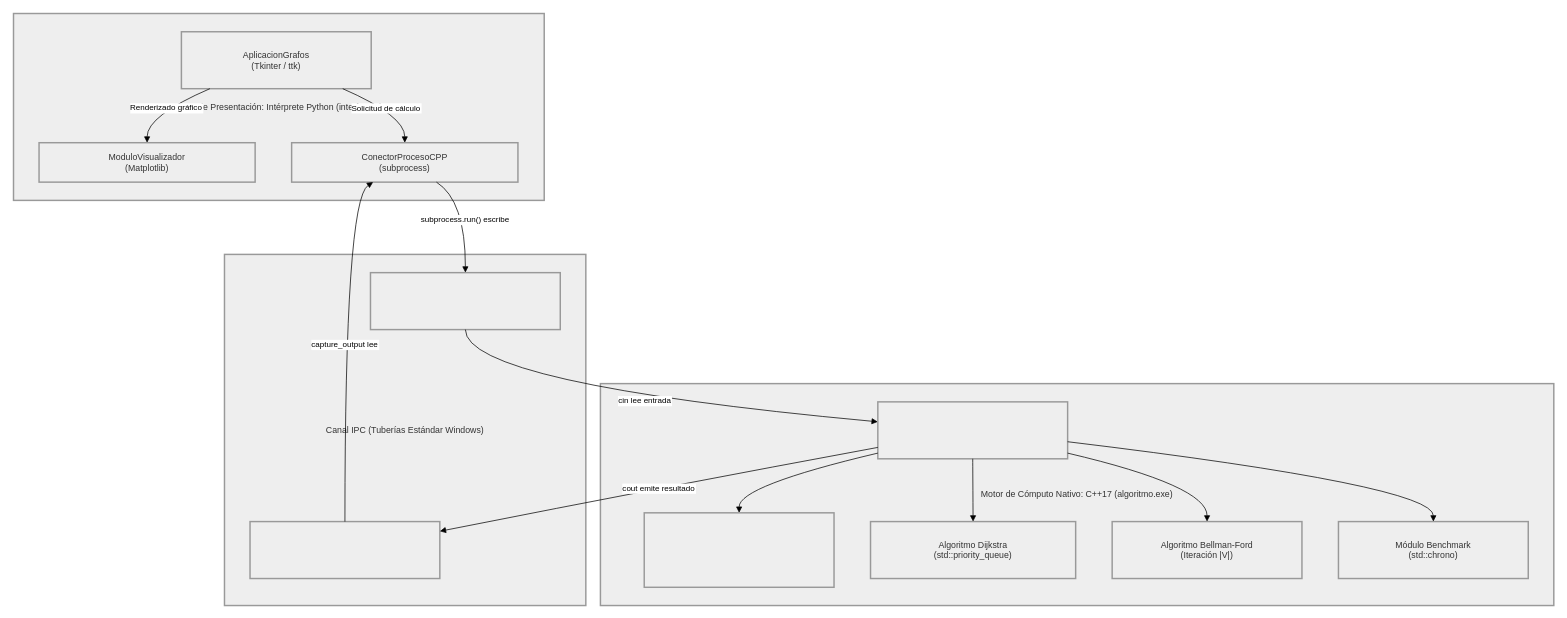
Some shapes in this 1567 by 618 pixel diagram are drawn without their labels. Here are the shapes that lost their labels. From the top down, the centre of each, then its label:
At point 465,301: "Tubería stdin (Guion de texto plano)".
At point 972,430: "Controlador de Menú y Flujo (cin / cout)".
At point 344,549: "Tubería stdout (Texto estructurado / Resultados)".
At point 738,550: "Estructuras de Datos (Conexion / AristaGrafo)".
